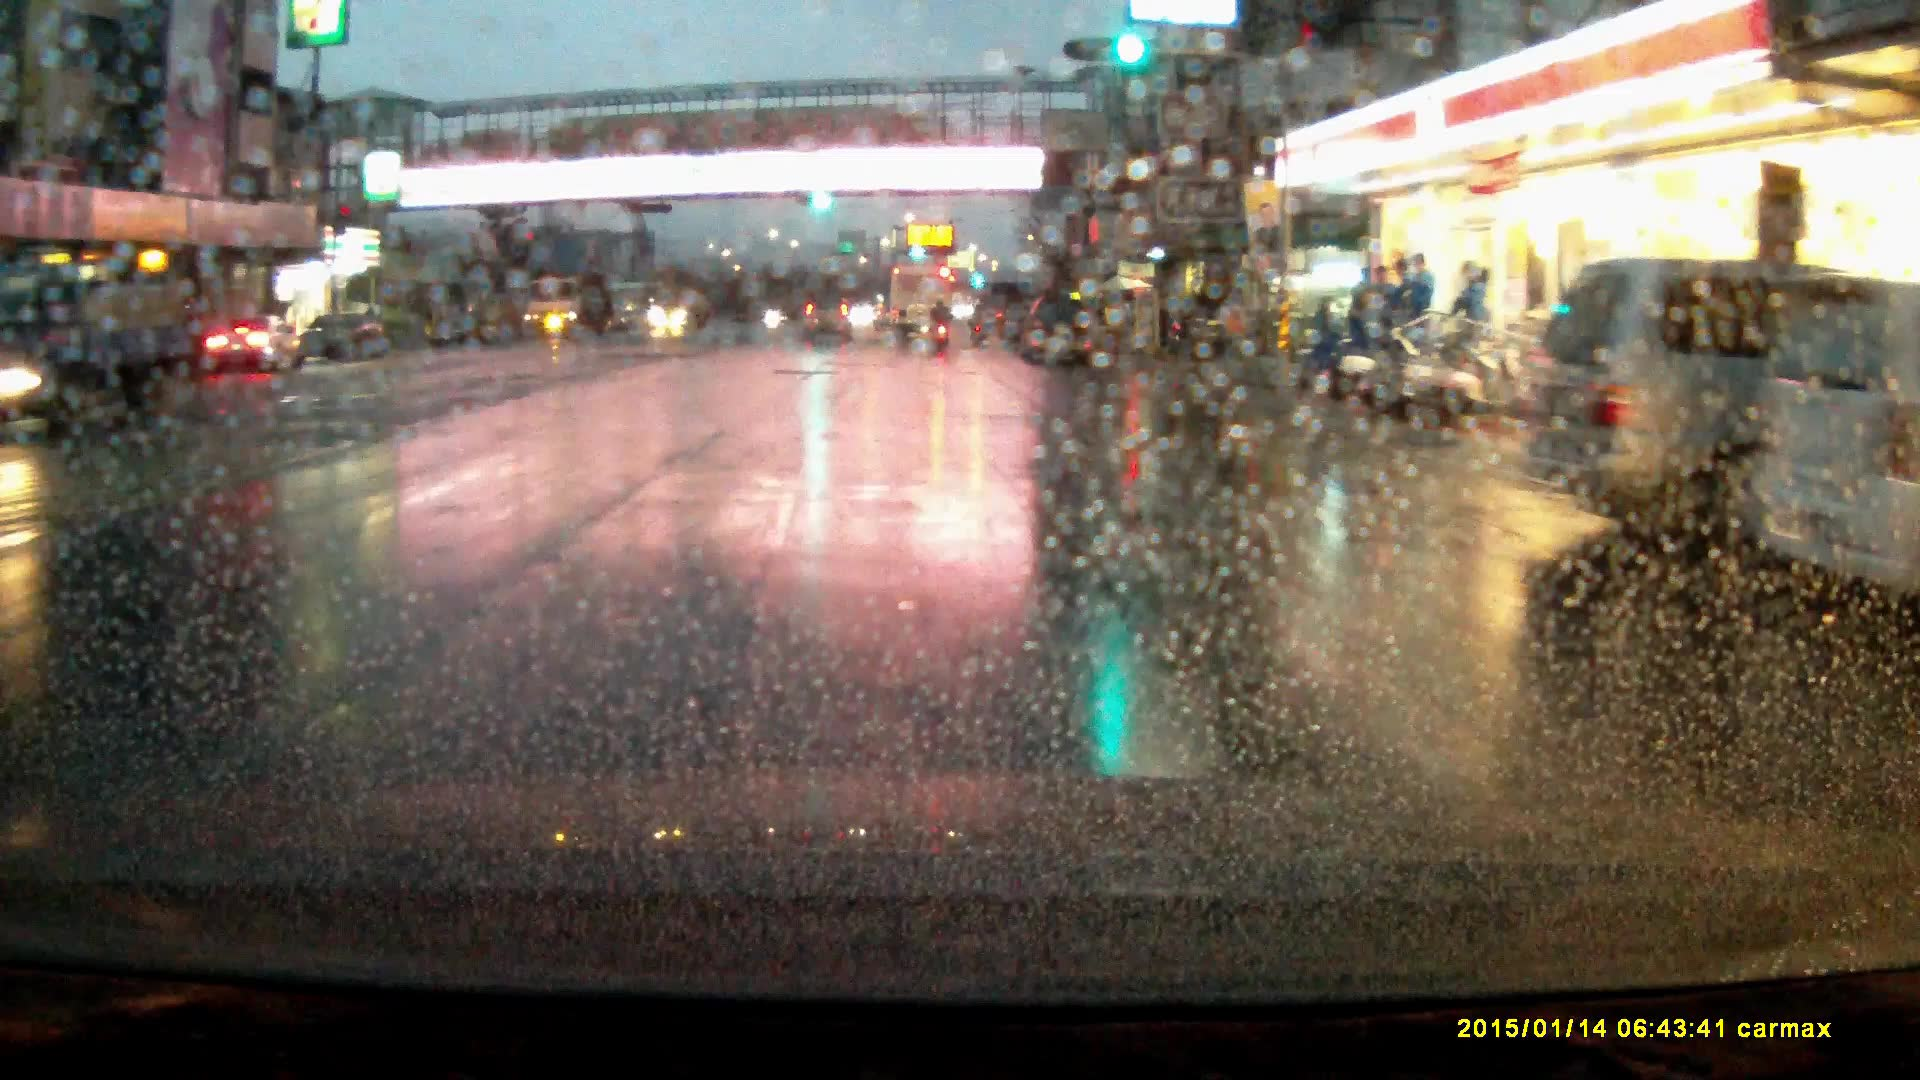rider: (930, 296, 956, 350)
vehicle: (1528, 256, 1886, 558), (10, 269, 204, 428), (522, 276, 611, 341), (1022, 291, 1093, 368), (891, 260, 953, 343), (294, 311, 393, 363), (1164, 298, 1247, 358), (801, 296, 855, 345), (657, 282, 714, 329)
